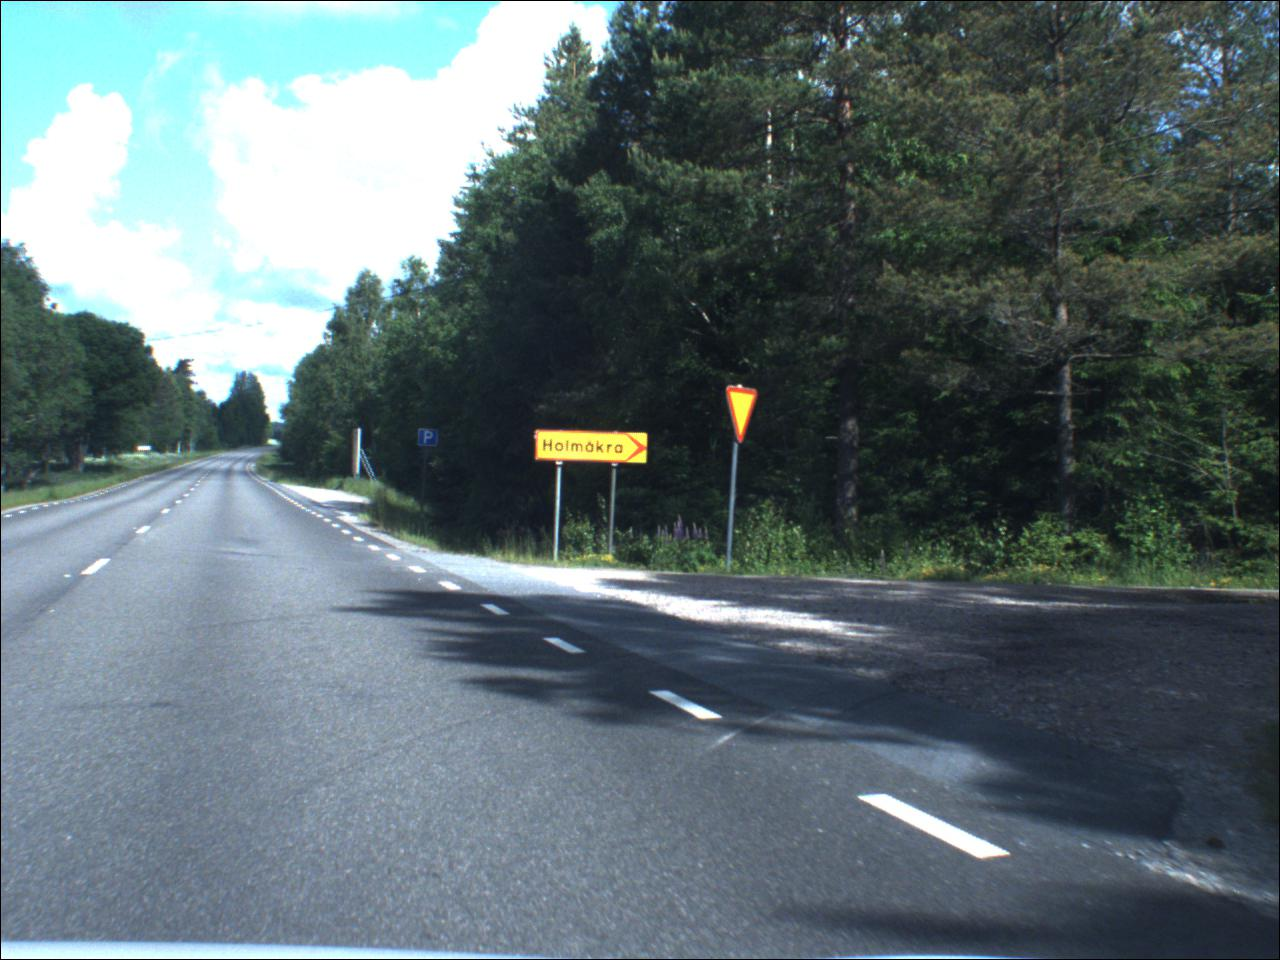GIVE_WAY: (727, 387, 759, 446)
